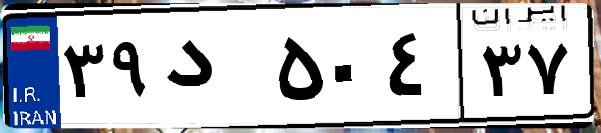0: (330, 28, 385, 110)
3: (57, 26, 110, 100), (475, 38, 525, 113)
4: (385, 28, 445, 110)
5: (270, 28, 330, 110)
7: (525, 38, 570, 115)
9: (110, 28, 158, 98)
د: (158, 20, 270, 120)
